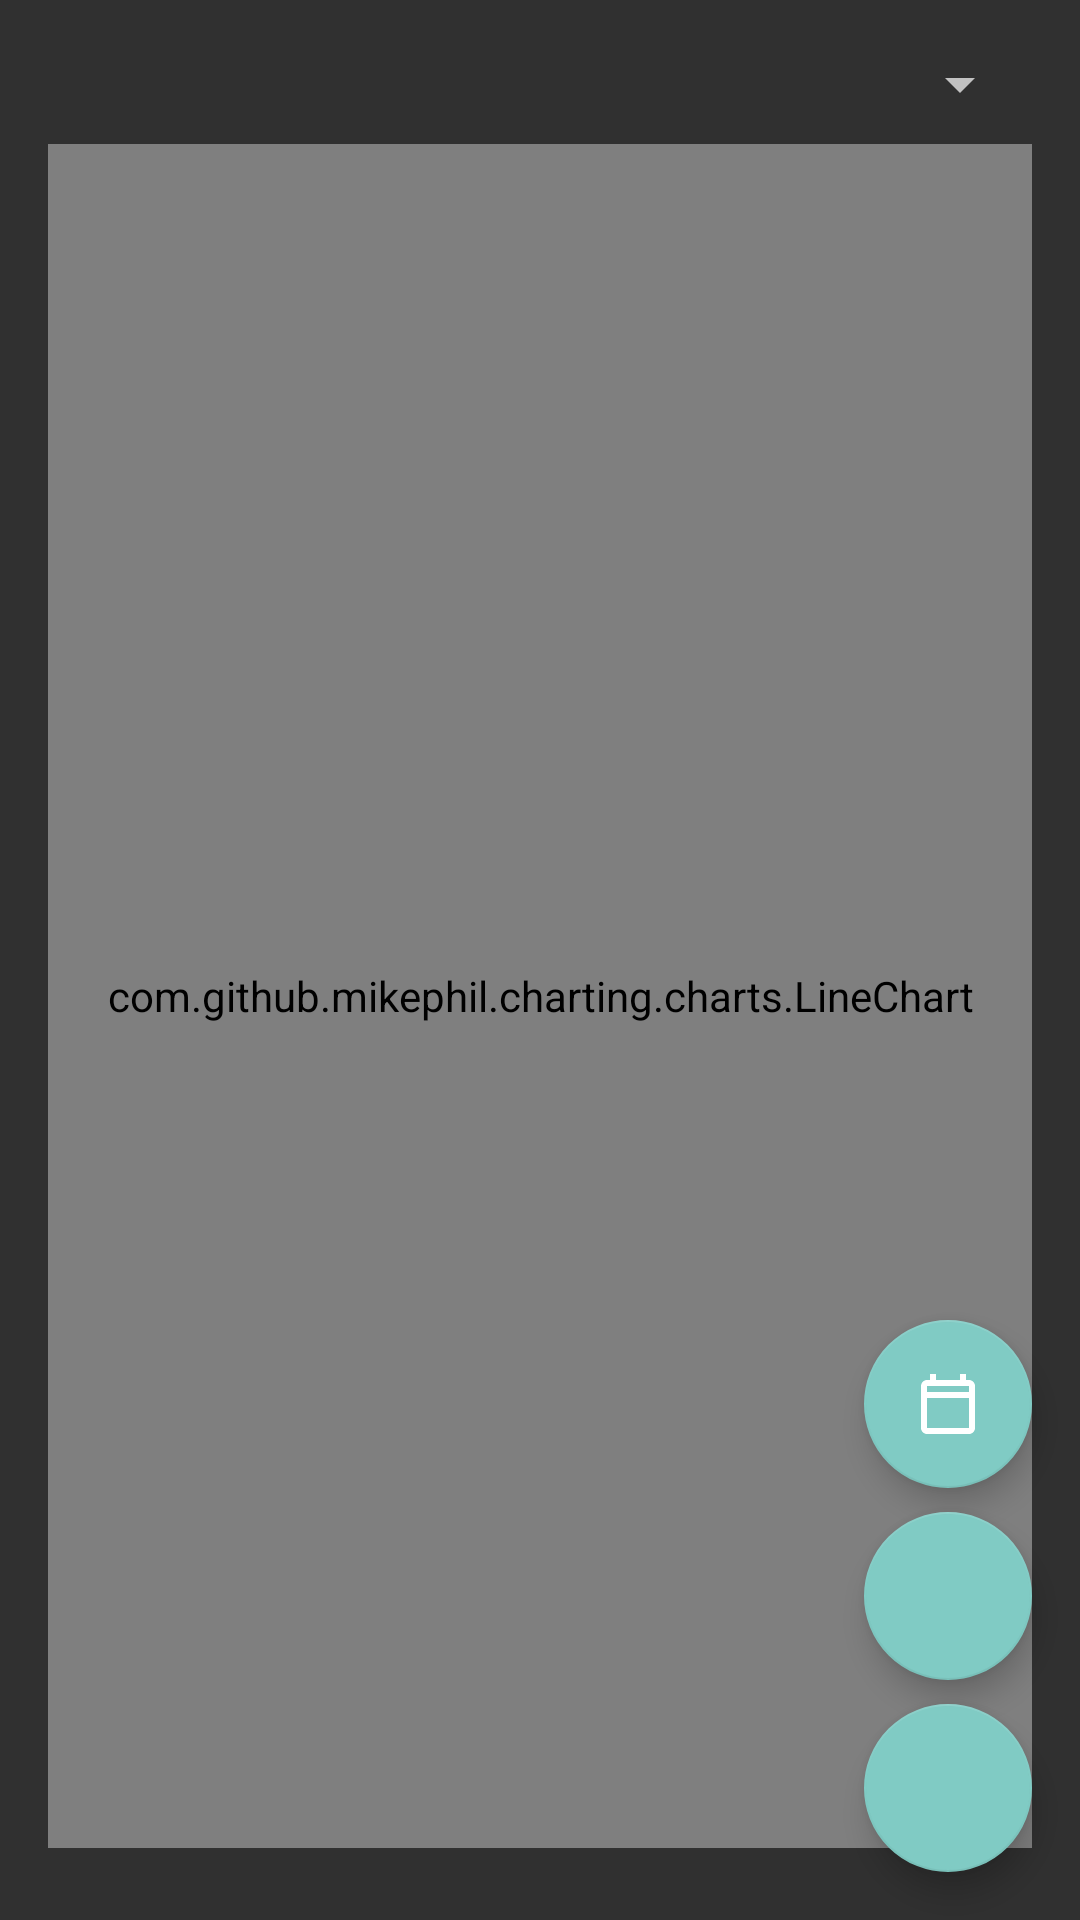

Screen size 1080 × 1920. Icon name, then its center in pixels as (x=x, y=y):
calendar: (x=948, y=1404)
